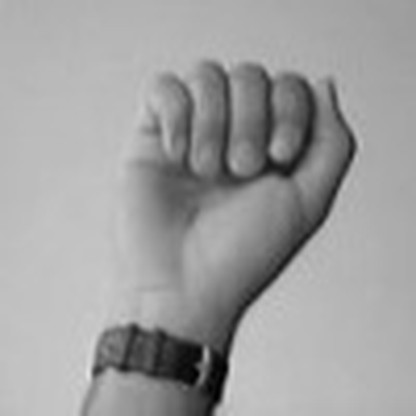a: (111, 30, 364, 309)
